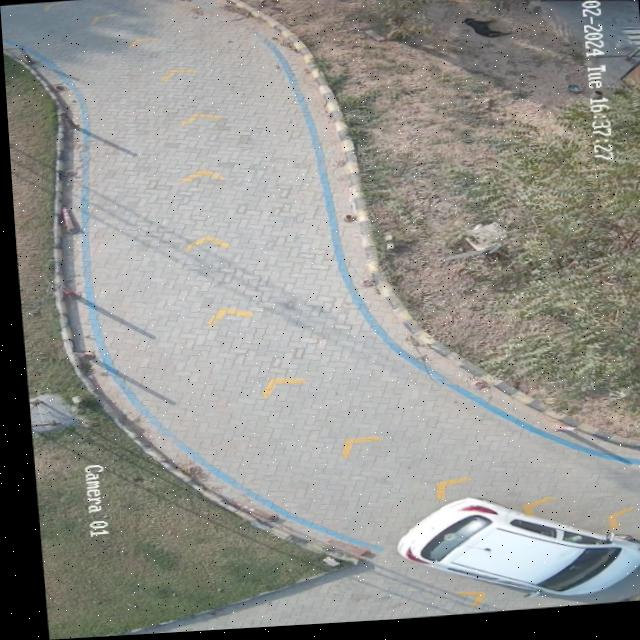car: (389, 502, 636, 603)
